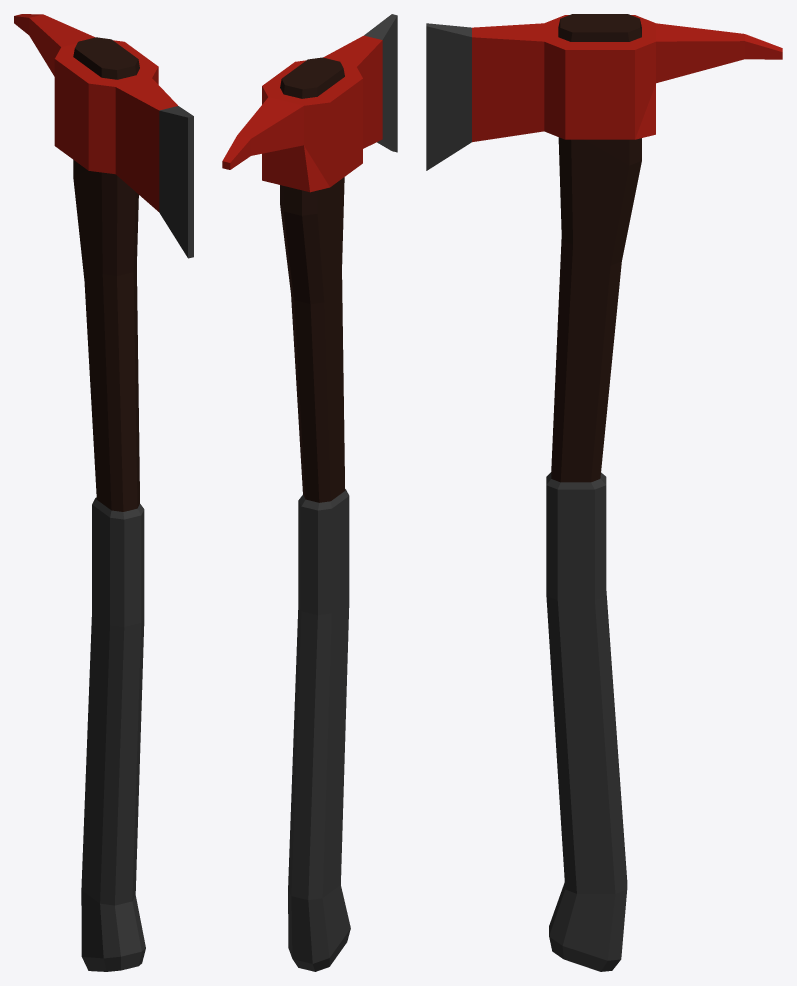
The model's file is Wep_FireAxe.FBX.
3 views of the same model, side by side, from view 1: azimuth 30°, elevation 25°; view 2: azimuth 150°, elevation 25°; view 3: azimuth 270°, elevation 25° (orthographic). The views are drawn at different scales.
Visible parts, largest first — view 1: Wep_FireAxe; view 2: Wep_FireAxe; view 3: Wep_FireAxe.
Boxes of the visible parts, x1,y1,x2,y2 form: Wep_FireAxe: [14, 14, 193, 971]; Wep_FireAxe: [222, 14, 397, 971]; Wep_FireAxe: [426, 14, 782, 971].
Bounding box in the file's own units: 7.79 × 97.65 × 33.42.
